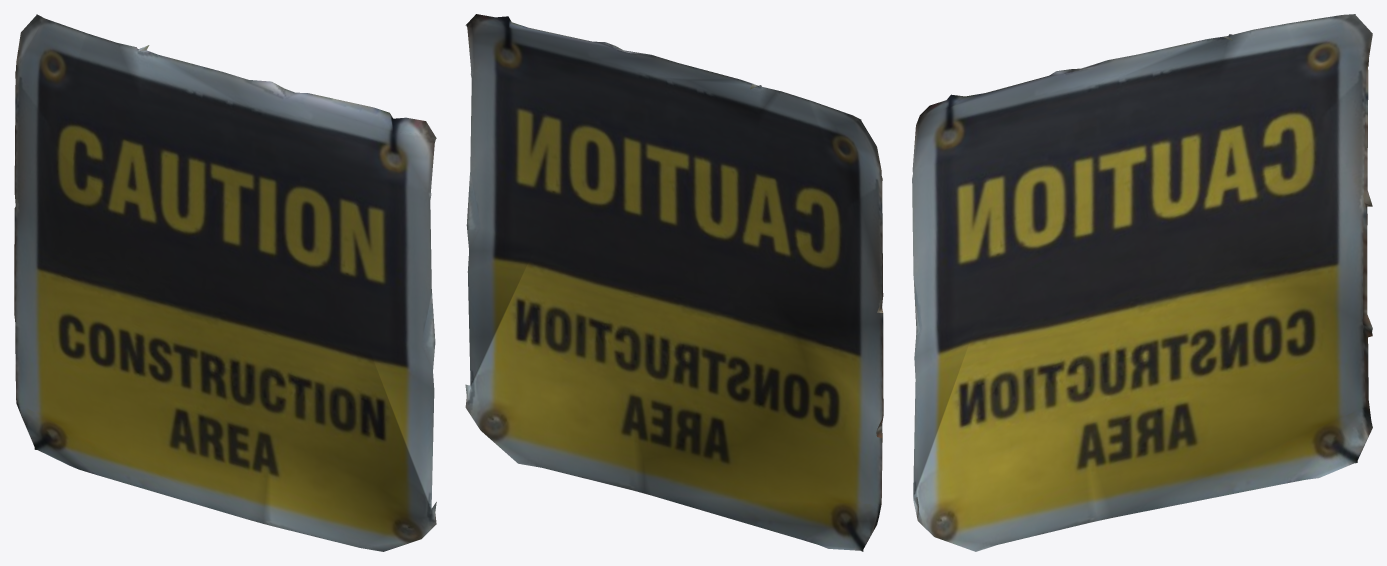
The model's file is caution.glb.
3 views of the same model, side by side, from view 1: azimuth 30°, elevation 25°; view 2: azimuth 210°, elevation 25°; view 3: azimuth 270°, elevation 25° (orthographic). The views are drawn at different scales.
Visible parts, largest first — view 1: caution; view 2: caution; view 3: caution.
Boxes of the visible parts, x1=… form: caution: x1=14, y1=14, x2=436, y2=551; caution: x1=465, y1=14, x2=883, y2=551; caution: x1=912, y1=14, x2=1372, y2=551.
Size of the model in its own units: 0.9834 by 2.03 by 1.85.
Materials: 1 (1 with a texture image).
